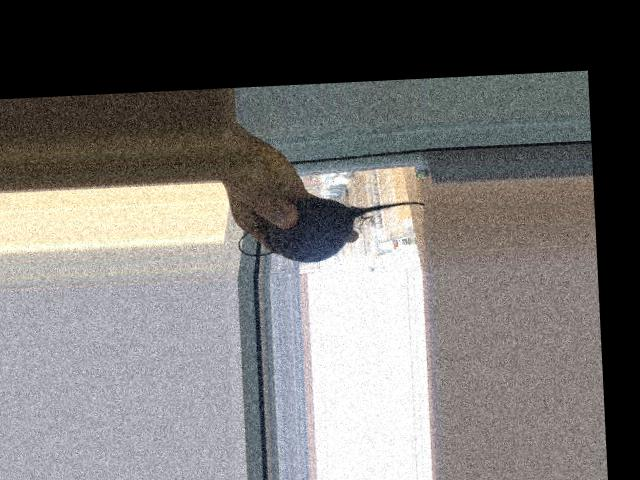beet: (237, 192, 427, 265)
